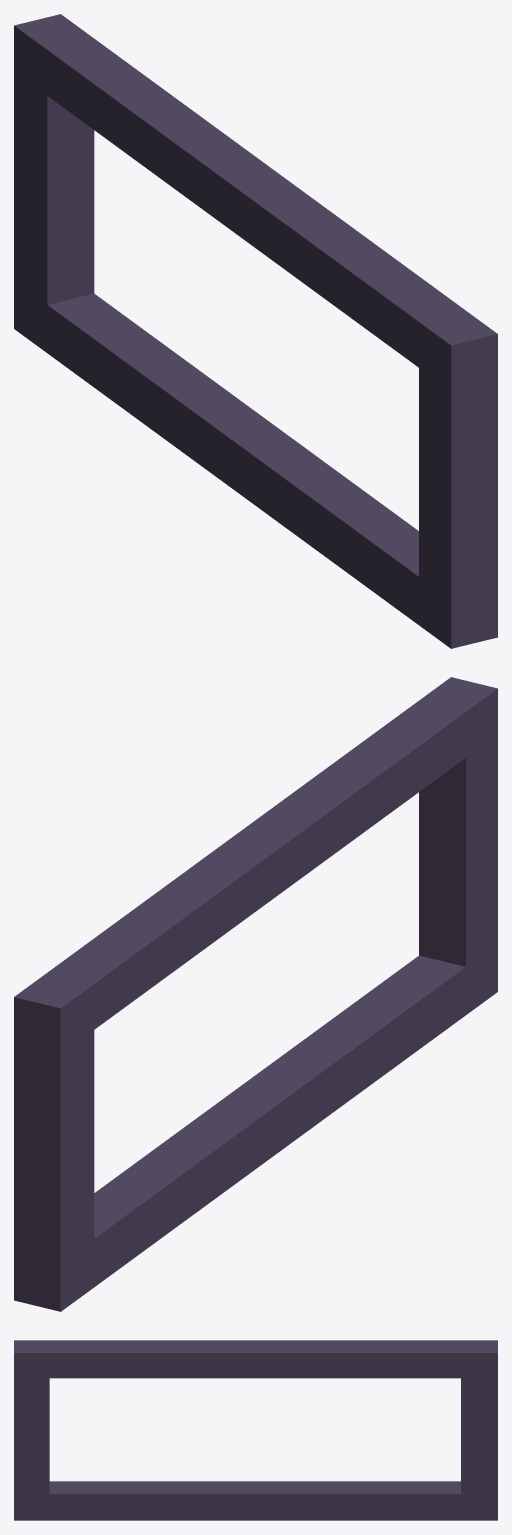
File: ShortFrame1.fbx
The picture shows the model from 3 angles, top to bottom: view 1: azimuth 30°, elevation 25°; view 2: azimuth 150°, elevation 25°; view 3: azimuth 270°, elevation 25°; orthographic projection. The views are drawn at different scales.
Parts seen in each view (by area): view 1: ShortFrame1; view 2: ShortFrame1; view 3: ShortFrame1.
Part boxes in pixels (left/top/right/bottom): ShortFrame1: left=14, top=14, right=497, bottom=648; ShortFrame1: left=14, top=677, right=497, bottom=1311; ShortFrame1: left=14, top=1340, right=497, bottom=1520.
Size of the model in its own units: 7.29 by 45.13 by 118.
